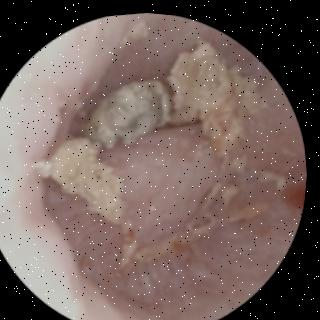stone: (170, 38, 262, 152), (41, 136, 130, 219), (88, 78, 171, 144), (140, 228, 198, 261), (230, 199, 270, 217), (126, 218, 140, 264), (225, 180, 241, 202), (234, 152, 250, 166)
tissue: (0, 23, 291, 320)
